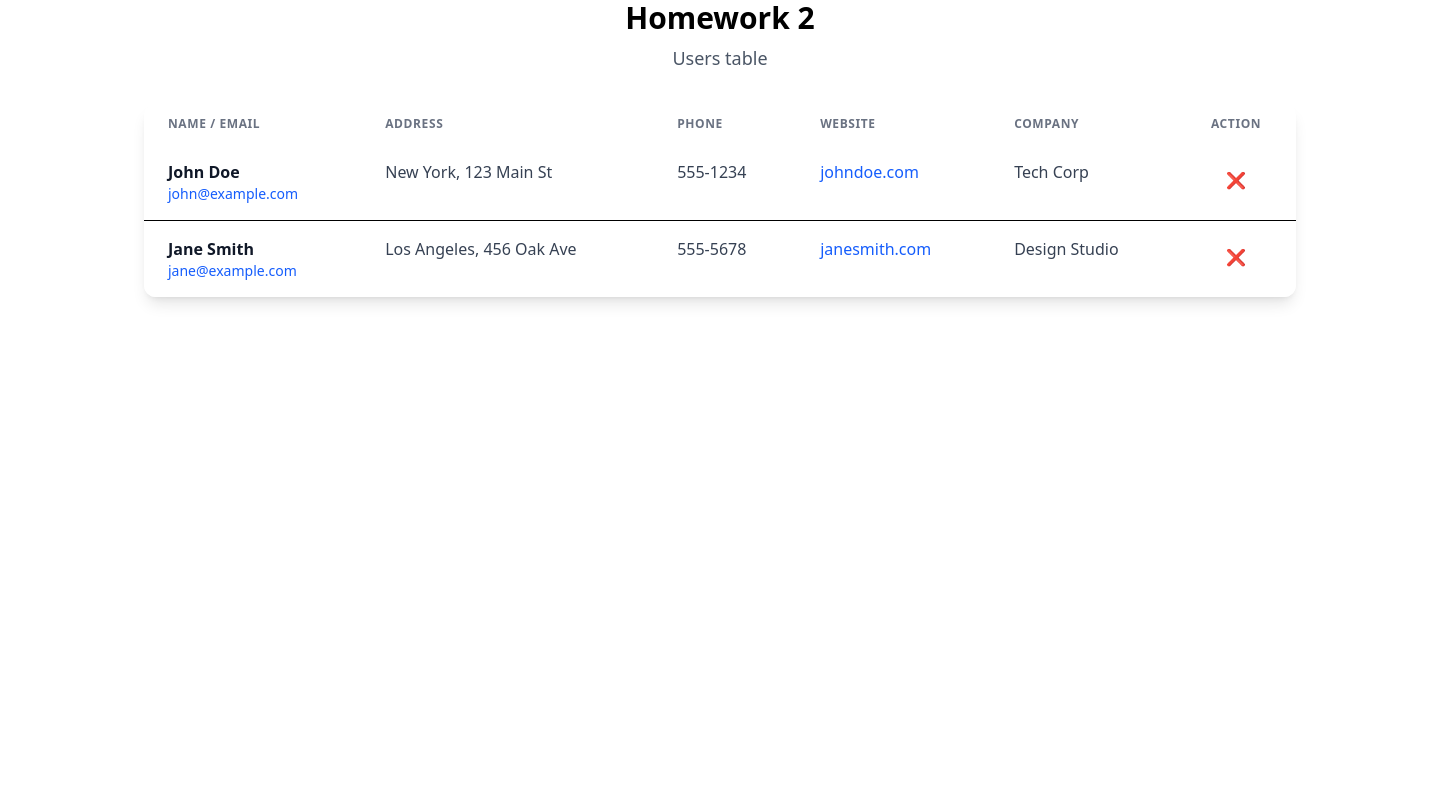
Test: App › User Interactions › should open modal when user row is clicked
The width and height of the screenshot is (1440, 810).
Check: the text "John Doe" is shown, box [168, 161, 240, 183]
Click the row named "View details for John Doe" at coordinates (720, 182), box [144, 144, 1296, 220]
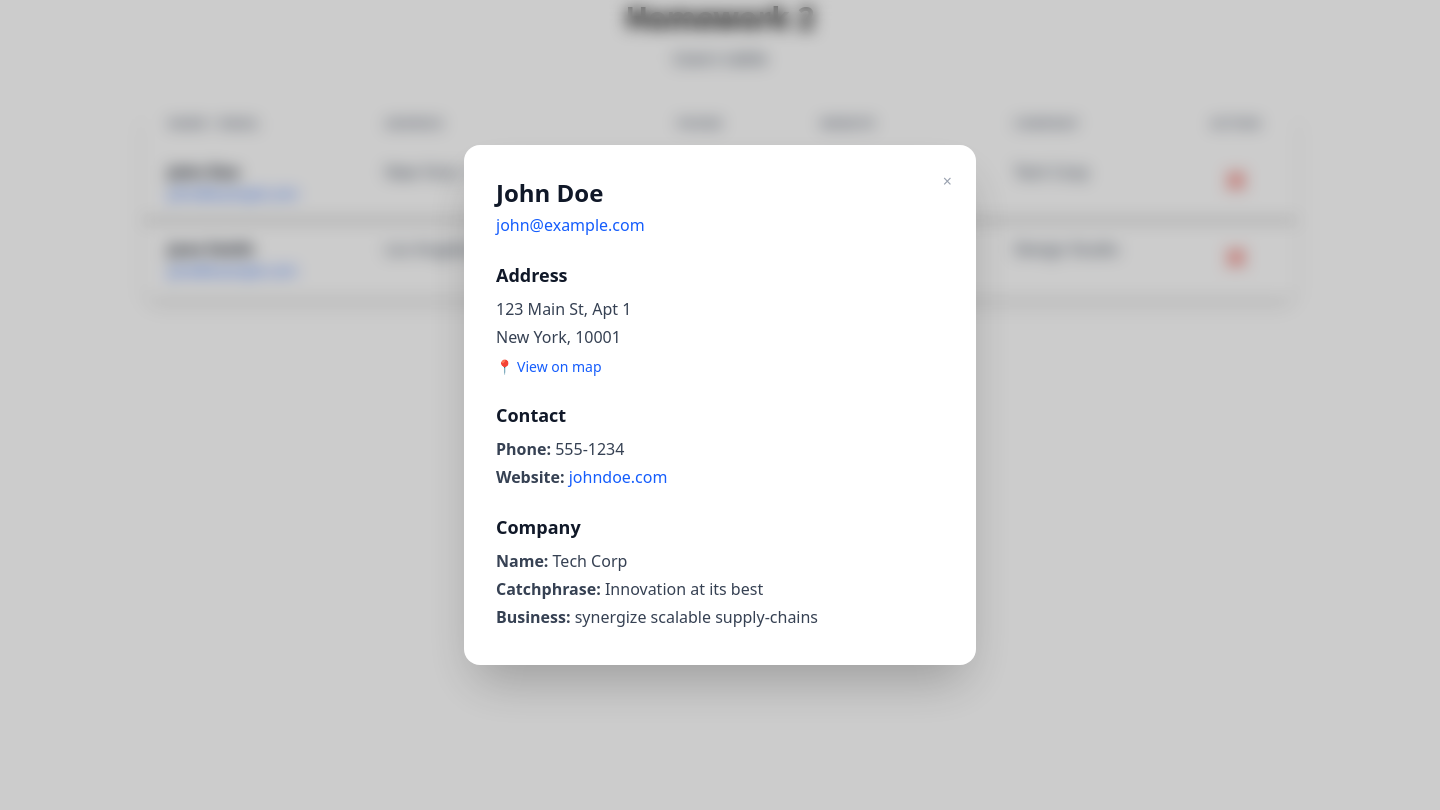
Check: the dialog is shown, box [464, 145, 976, 665]
Check: the text "John Doe" is shown, box [496, 176, 603, 209]
Check: the link "john@example.com" is shown, box [496, 214, 645, 236]
